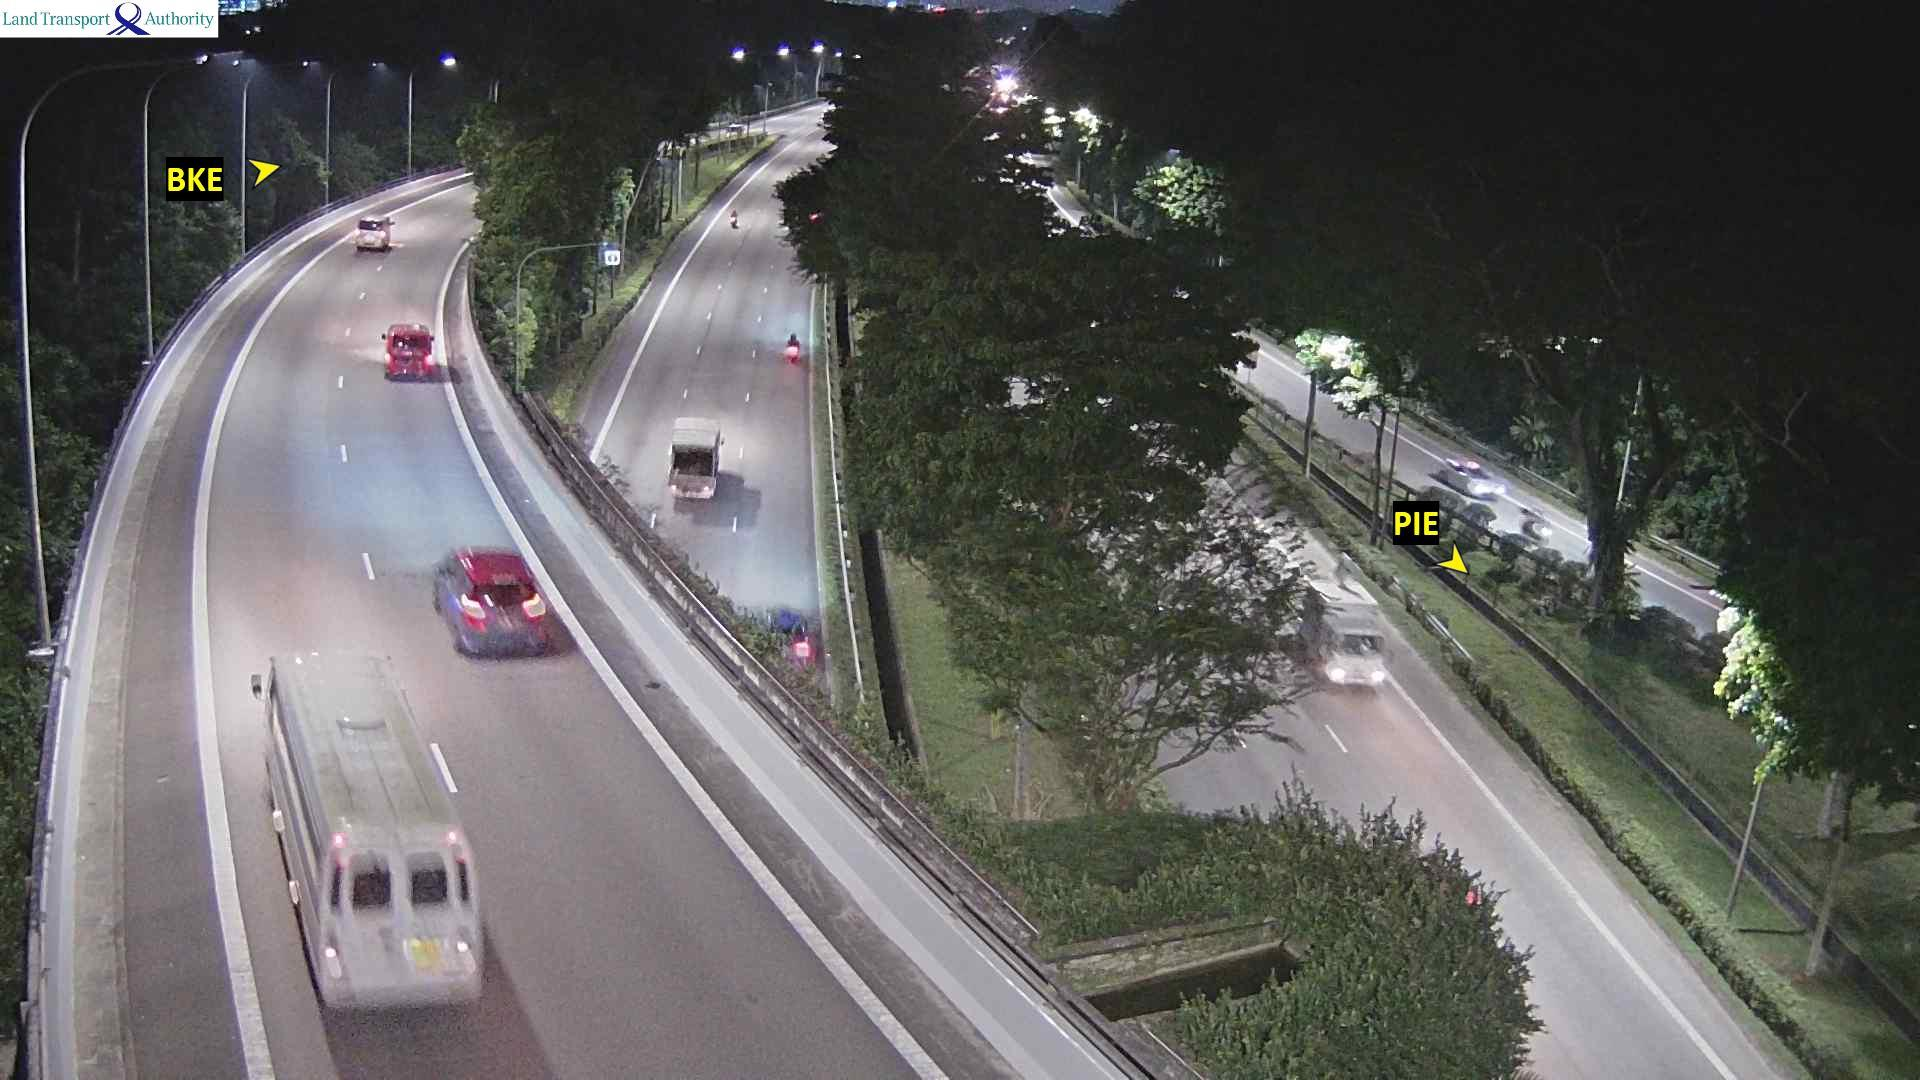incoming: (1326, 632, 1400, 690), (1463, 459, 1505, 497), (1532, 513, 1553, 541)
